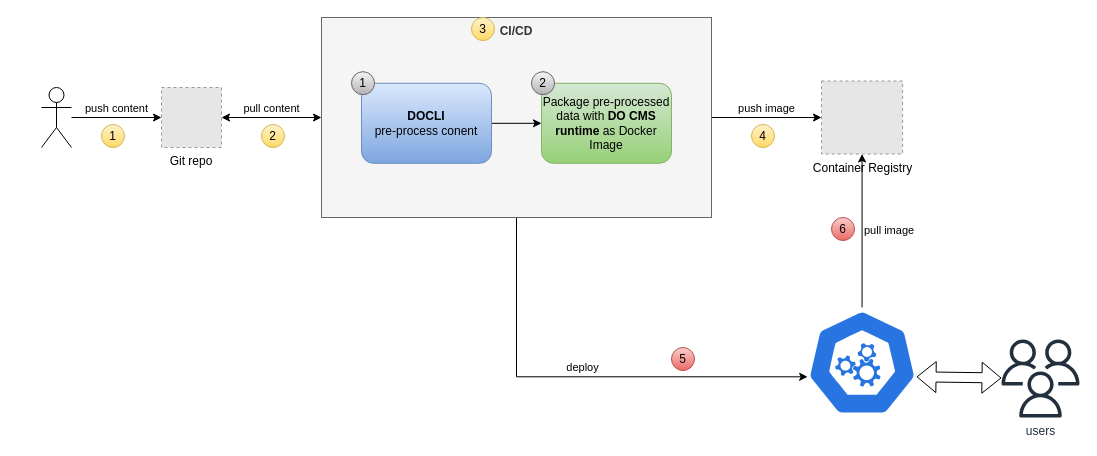
Some shapes in this 1097 by 456 pixel diagram are drawn without their labels. Grey dashed boxes stand in for pictures. The shapes that lost their labels are listed below. From the top down, each one's centre as x and y in pixels, then its label:
At point 56,117: "Content author".
At point 861,362: "Dev/UAT/Prod env".
